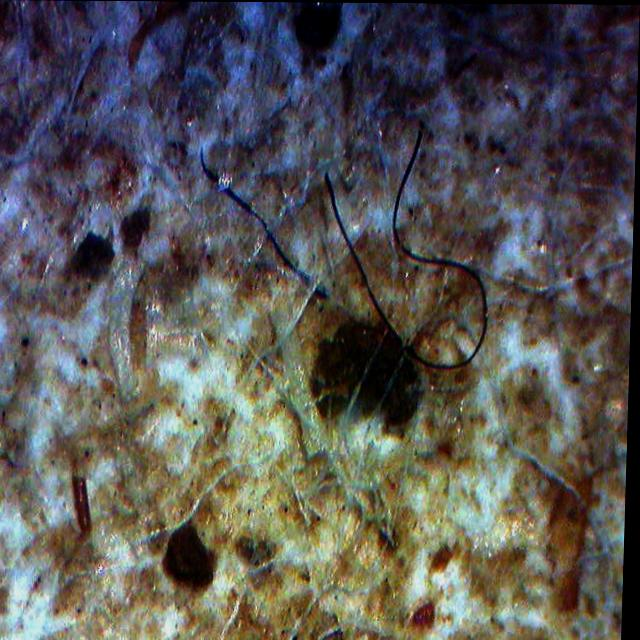microplastic: (325, 130, 489, 369), (201, 147, 330, 298)
